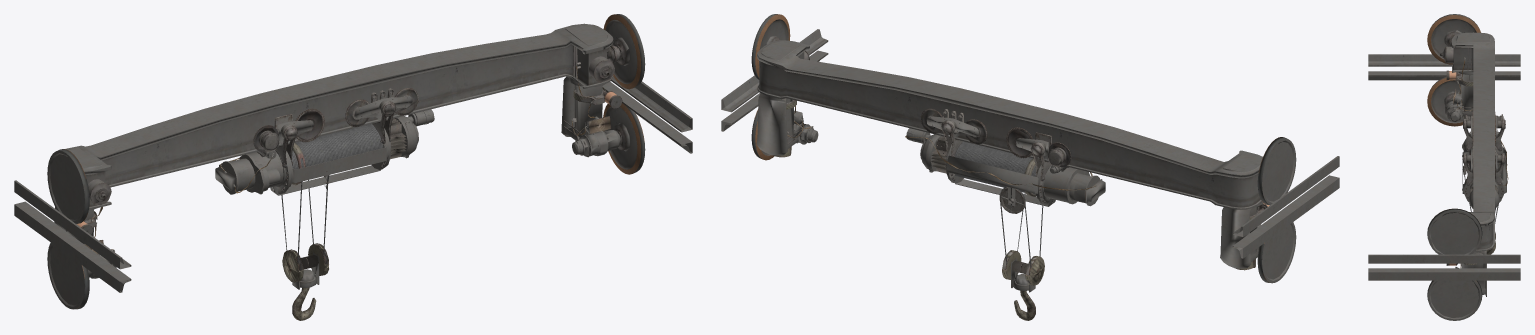
Rendered from overhead-crane.glb.
3 views of the same model, side by side, from view 1: azimuth 30°, elevation 25°; view 2: azimuth 150°, elevation 25°; view 3: azimuth 270°, elevation 25° (orthographic). The views are drawn at different scales.
Visible parts, largest first — view 1: overhead_crane_rails, overhead_crane_winch; view 2: overhead_crane_rails, overhead_crane_winch; view 3: overhead_crane_rails, overhead_crane_winch.
Part boxes in pixels (bbox=[...]): overhead_crane_rails: bbox=[14, 19, 692, 309]; overhead_crane_winch: bbox=[56, 14, 645, 320]; overhead_crane_rails: bbox=[721, 19, 1339, 292]; overhead_crane_winch: bbox=[751, 14, 1287, 320]; overhead_crane_rails: bbox=[1368, 19, 1520, 320]; overhead_crane_winch: bbox=[1427, 14, 1506, 300].
Size of the model in its own units: 12.49 by 5.12 by 4.
Materials: 2 (2 with a texture image).
